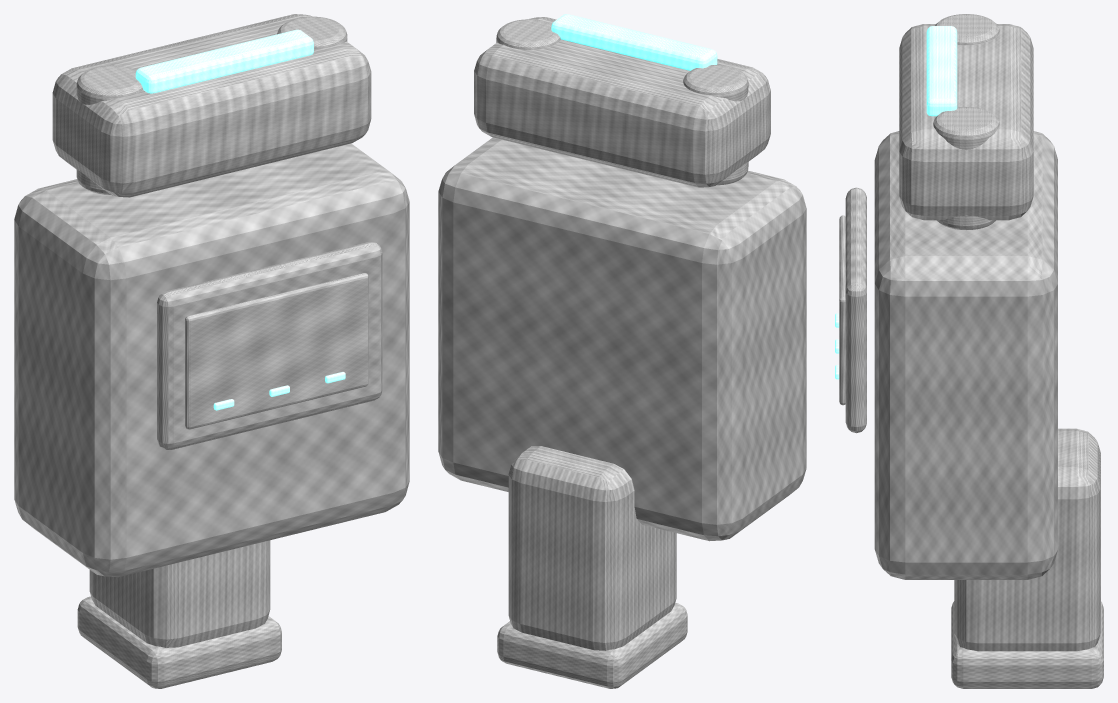
The model's file is object_scanner_variant_b.glb.
The picture shows the model from 3 angles, left to right: view 1: azimuth 30°, elevation 25°; view 2: azimuth 150°, elevation 25°; view 3: azimuth 270°, elevation 25°; orthographic projection. The views are drawn at different scales.
Parts seen in each view (by area): view 1: Main housing.001, Scanner head housing.001, Display glass.001, Display bezel.001, Pistol grip.001, Grip end cap.001, Antenna window, Array end cap.001, Array end cap; view 2: Main housing.001, Scanner head housing.001, Pistol grip.001, Grip end cap.001, Antenna window, Array end cap.001, Array end cap; view 3: Main housing.001, Scanner head housing.001, Pistol grip.001, Grip end cap.001, Display bezel.001, Antenna window, Array end cap, Array end cap.001, Display glass.001.
Part boxes in pixels (x1,y1,x2,y2): Main housing.001: (14,143,409,577); Scanner head housing.001: (52,14,371,197); Display glass.001: (185,273,368,429); Display bezel.001: (157,242,382,449); Pistol grip.001: (89,540,270,647); Grip end cap.001: (77,596,281,688); Antenna window: (135,29,313,93); Array end cap.001: (76,65,143,194); Array end cap: (277,16,347,49); Main housing.001: (438,137,806,541); Scanner head housing.001: (474,17,770,187); Pistol grip.001: (508,446,676,650); Grip end cap.001: (497,603,687,688); Antenna window: (551,14,717,70); Array end cap.001: (683,65,748,185); Array end cap: (496,19,560,49); Main housing.001: (874,131,1057,579); Scanner head housing.001: (899,24,1033,220); Pistol grip.001: (954,428,1100,651); Grip end cap.001: (951,601,1103,688); Display bezel.001: (845,187,866,433); Antenna window: (926,26,957,116); Array end cap: (933,107,999,229); Array end cap.001: (935,14,999,45); Display glass.001: (839,215,845,405).
Size of what is drawn, in the model's own units: 0.58 by 1.08 by 0.44.
6 materials, 6 textured.
